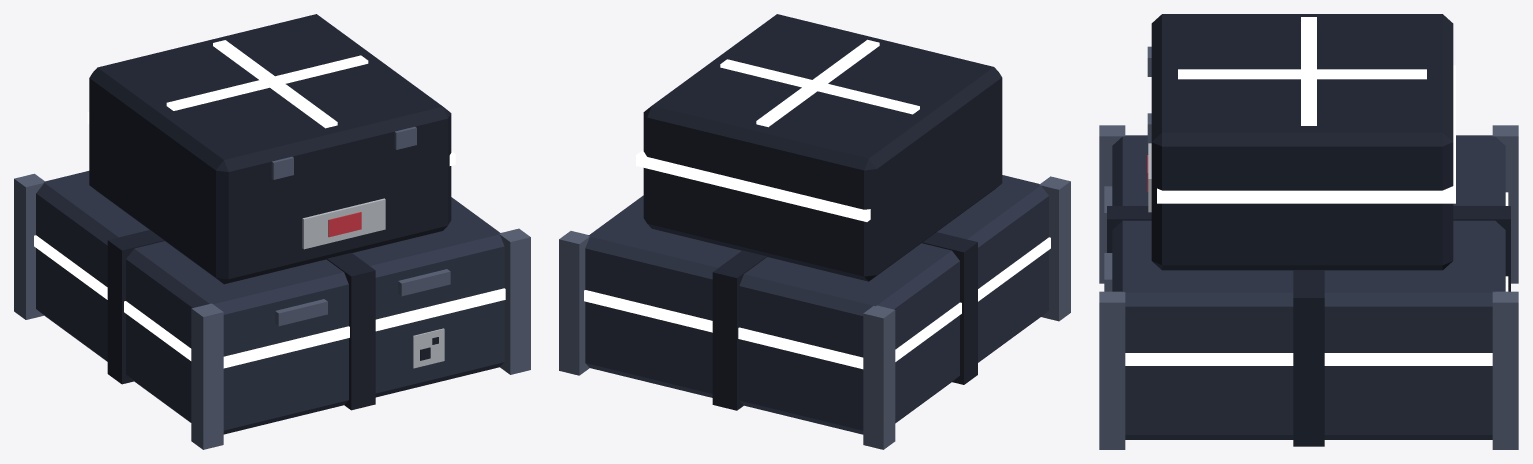
The model's file is kit-tokyo-crate.glb.
3 views of the same model, side by side, from view 1: azimuth 30°, elevation 25°; view 2: azimuth 150°, elevation 25°; view 3: azimuth 270°, elevation 25° (orthographic). The views are drawn at different scales.
Parts seen in each view (by area): view 1: kit-tokyo-crate; view 2: kit-tokyo-crate; view 3: kit-tokyo-crate.
Boxes of the visible parts, bbox=[...] form: kit-tokyo-crate: bbox=[14, 14, 530, 449]; kit-tokyo-crate: bbox=[559, 14, 1070, 449]; kit-tokyo-crate: bbox=[1099, 14, 1518, 449].
Bounding box in the file's own units: 1.6 × 1.22 × 1.6.
